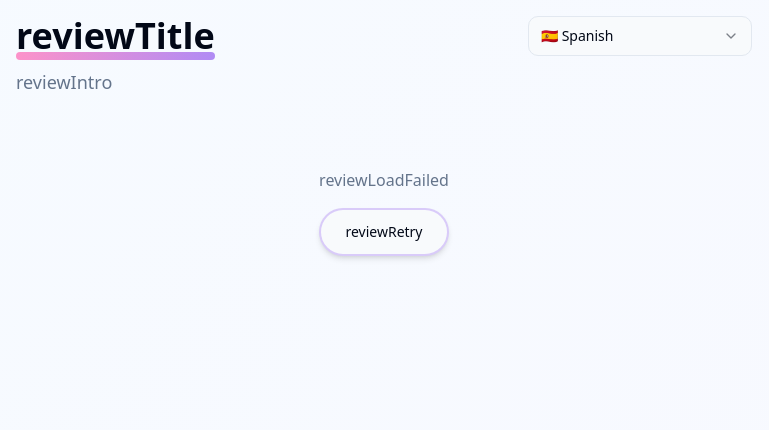
Test: ReviewPage › shows when the review cannot be loaded and retries
The image size is (769, 430).
expect the message shows "reviewLoadFailed": met, box [319,169,449,191]
Click the button "reviewRetry". click: (384,232)
box: [320,208,448,256]
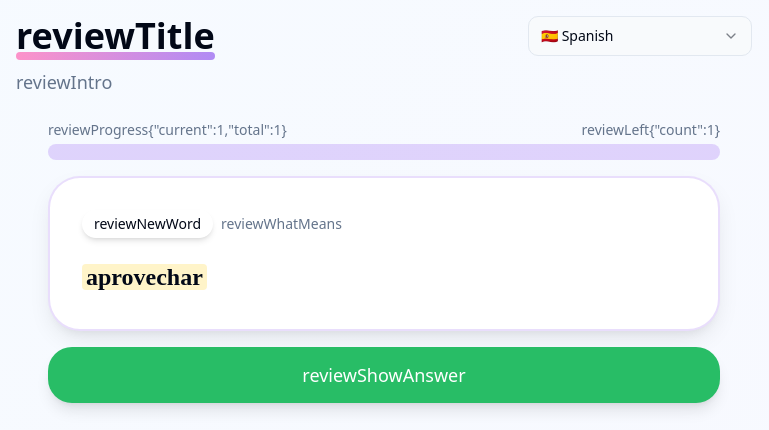
expect the element with test id "review-session" is shown: met, box [48,120,720,403]
